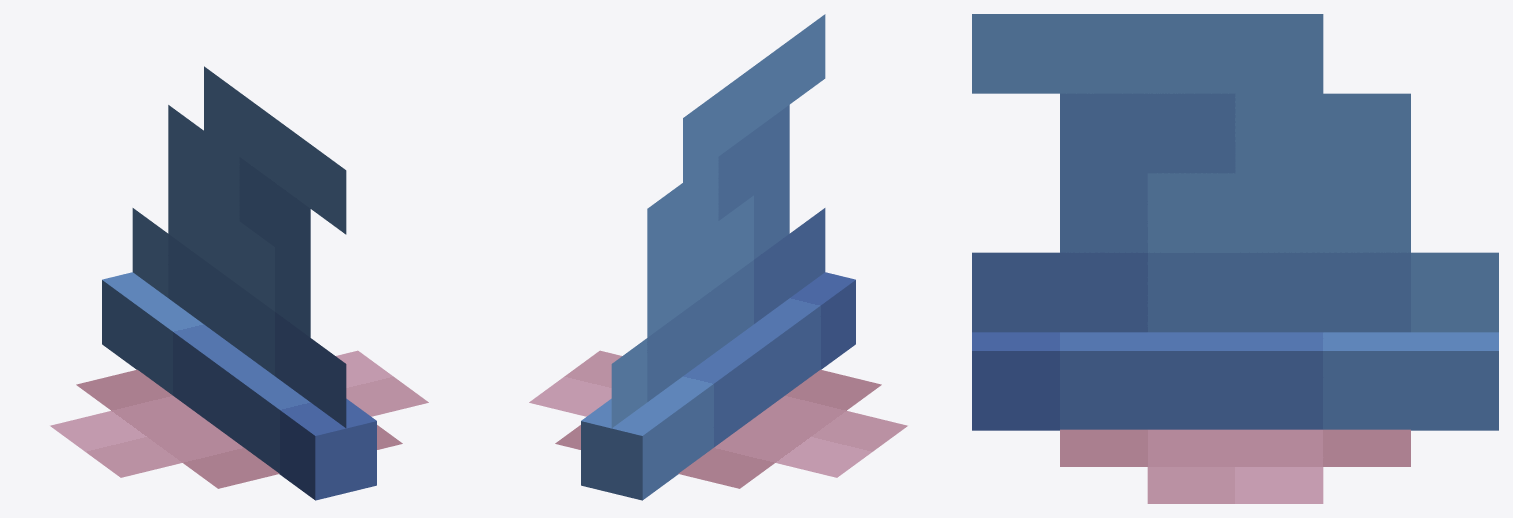
Rendered from FinBack.fbx.
The picture shows the model from 3 angles, left to right: view 1: azimuth 30°, elevation 25°; view 2: azimuth 150°, elevation 25°; view 3: azimuth 270°, elevation 25°; orthographic projection. The views are drawn at different scales.
Visible parts, largest first — view 1: fin_1, fin, goop; view 2: fin_1, fin, goop; view 3: fin_1, fin, goop.
Part boxes in pixels (box(x1,y1,x2,y2)): fin_1: box(132, 66, 346, 427); fin: box(102, 272, 376, 500); goop: box(50, 350, 428, 488); fin_1: box(611, 14, 825, 427); fin: box(581, 272, 855, 500); goop: box(529, 350, 907, 488); fin_1: box(972, 14, 1498, 332); fin: box(972, 332, 1498, 430); goop: box(1060, 429, 1410, 503).
Size of the model in its own units: 15.62 by 15.62 by 18.75.
Materials: 1 (1 with a texture image).
